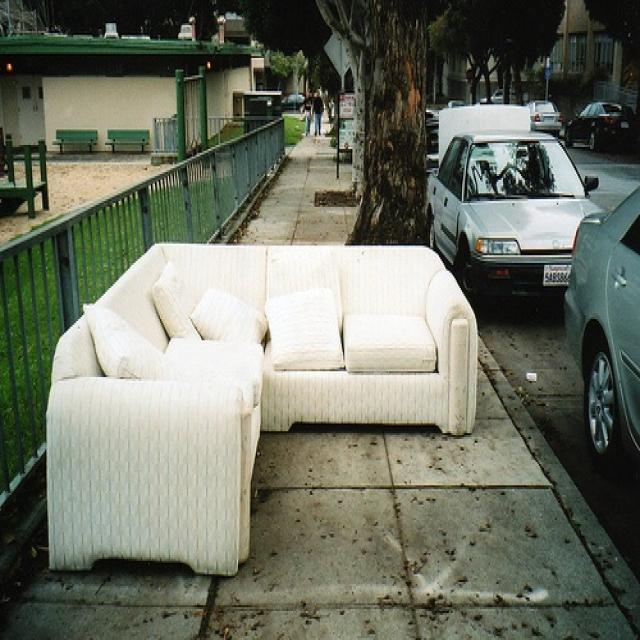car: (427, 104, 603, 306), (562, 182, 639, 476), (563, 100, 639, 154)
sofa: (46, 242, 478, 580)
